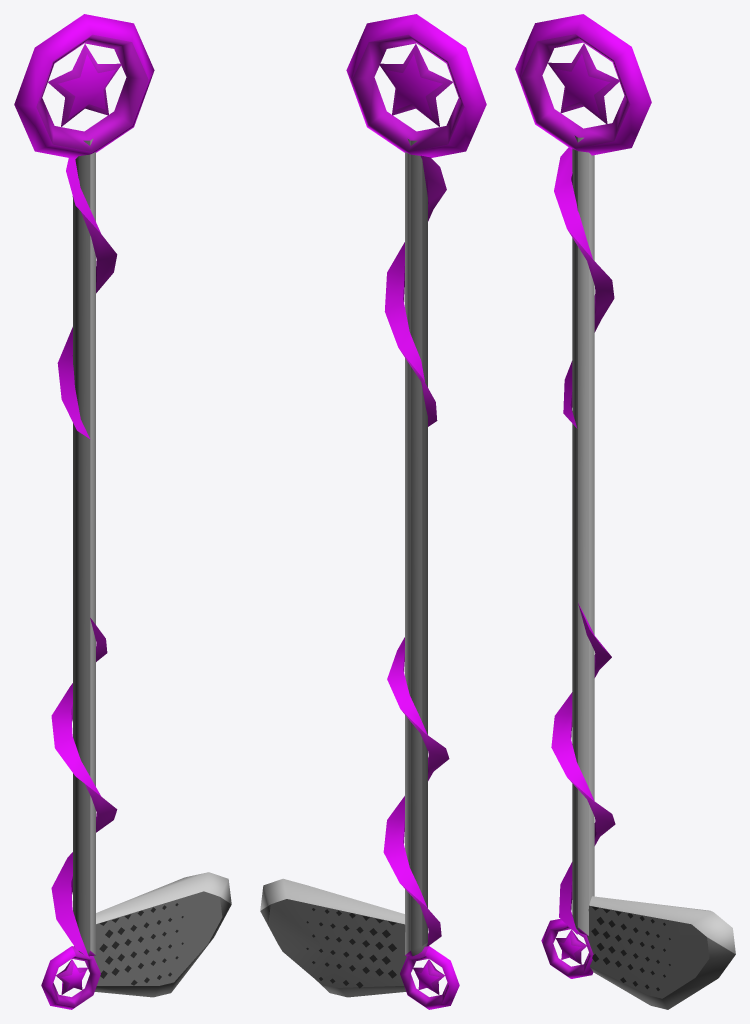
3 views of the same model, side by side, from view 1: azimuth 30°, elevation 25°; view 2: azimuth 150°, elevation 25°; view 3: azimuth 330°, elevation 25° (orthographic). The views are drawn at different scales.
Visible parts, largest first — view 1: rainbow_club; view 2: rainbow_club; view 3: rainbow_club.
Part boxes in pixels (box(x1,y1,x2,y2)): rainbow_club: box(14, 14, 231, 1009); rainbow_club: box(260, 14, 486, 1009); rainbow_club: box(515, 14, 735, 1009).
Bounding box in the file's own units: 0.3718 × 1.6 × 0.0989.
1 material, 1 textured.
